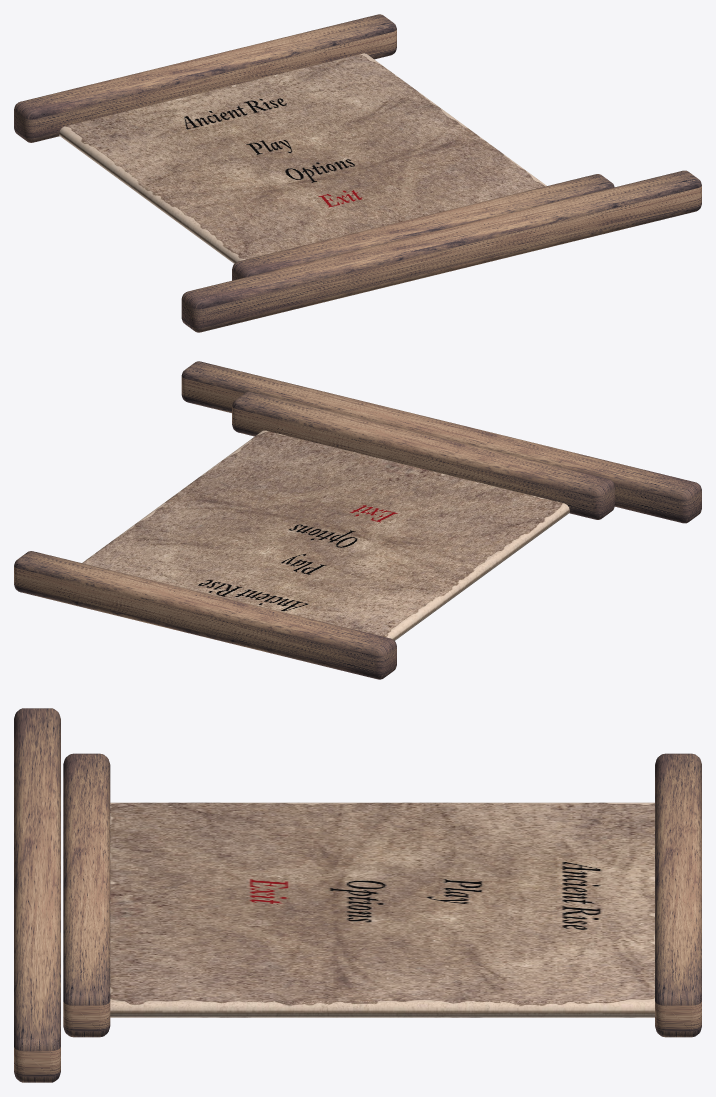
Rendered from Menu3.obj.
3 renders of one model, top to bottom at view 1: azimuth 30°, elevation 25°; view 2: azimuth 150°, elevation 25°; view 3: azimuth 270°, elevation 25°, orthographic. The views are drawn at different scales.
Parts seen in each view (by area): view 1: ChamferBox002, ChamferBox004, ChamferBox001, ChamferBox003; view 2: ChamferBox002, ChamferBox001, ChamferBox003, ChamferBox004; view 3: ChamferBox002, ChamferBox004, ChamferBox003, ChamferBox001.
Part boxes in pixels (box(x1,y1,x2,y2)): ChamferBox002: box(59, 53, 546, 263); ChamferBox004: box(181, 170, 701, 332); ChamferBox001: box(14, 14, 396, 142); ChamferBox003: box(232, 174, 614, 280); ChamferBox002: box(82, 430, 569, 640); ChamferBox001: box(14, 551, 396, 679); ChamferBox003: box(232, 391, 614, 519); ChamferBox004: box(181, 361, 701, 523); ChamferBox002: box(110, 802, 654, 1017); ChamferBox004: box(14, 708, 60, 1082); ChamferBox003: box(63, 753, 110, 1037); ChamferBox001: box(655, 753, 701, 1037).
Size of the model in its own units: 162 by 10 by 140.
